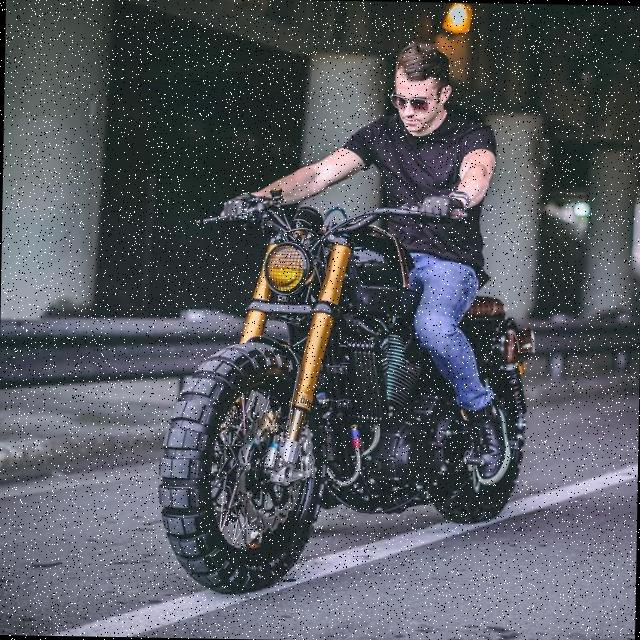No helmet: (380, 34, 464, 135)
